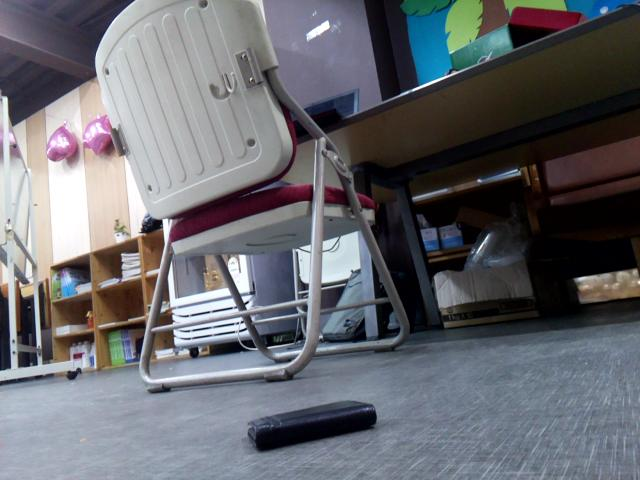wallet: (241, 397, 381, 455)
